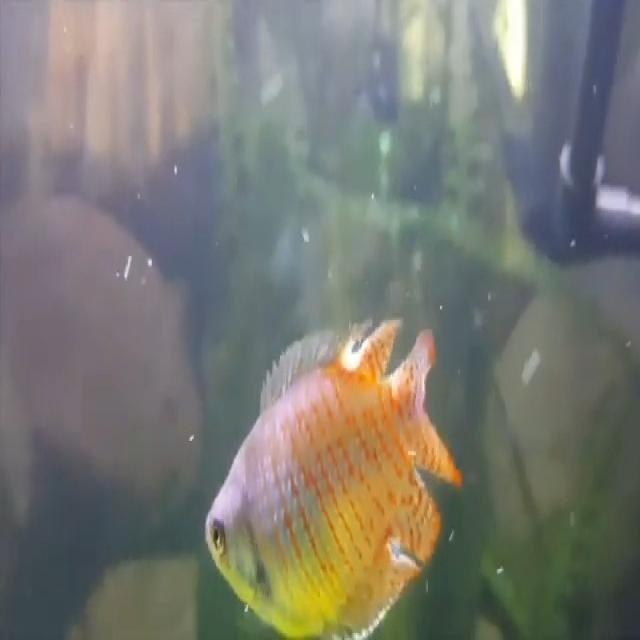fish: (202, 312, 466, 640)
